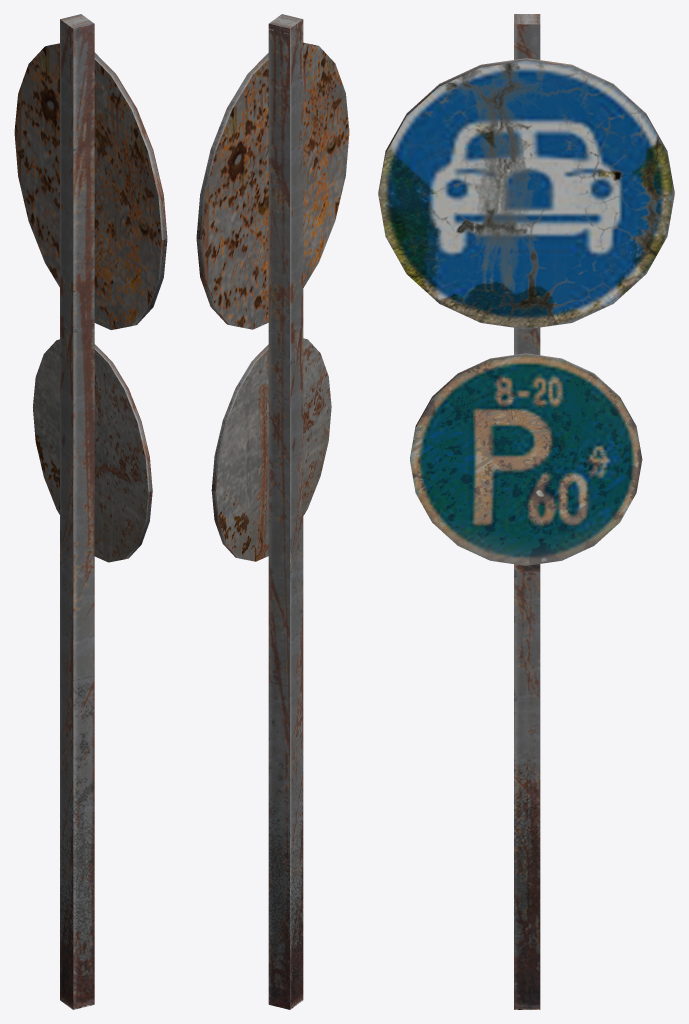
File: RoadSign04.fbx
The picture shows the model from 3 angles, left to right: view 1: azimuth 30°, elevation 25°; view 2: azimuth 150°, elevation 25°; view 3: azimuth 270°, elevation 25°; orthographic projection.
Visible parts, largest first — view 1: Pole, Sign02, Sign01; view 2: Pole, Sign02, Sign01; view 3: Sign02, Sign01, Pole.
Boxes of the visible parts, <box> form: Pole: <box>60,14,94,1009</box>; Sign02: <box>14,43,167,329</box>; Sign01: <box>33,339,152,562</box>; Pole: <box>268,14,303,1009</box>; Sign02: <box>196,42,349,329</box>; Sign01: <box>211,338,331,561</box>; Sign02: <box>378,58,674,329</box>; Sign01: <box>410,353,642,565</box>; Pole: <box>514,14,540,1009</box>.
Size of the model in its own units: 4.73 by 160 by 43.56.
